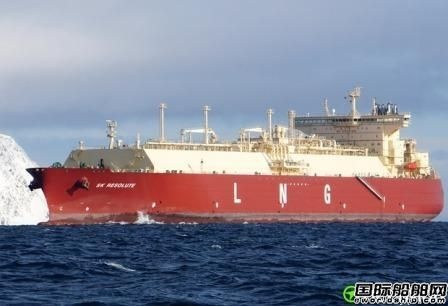Cargoship: (21, 83, 442, 226)
